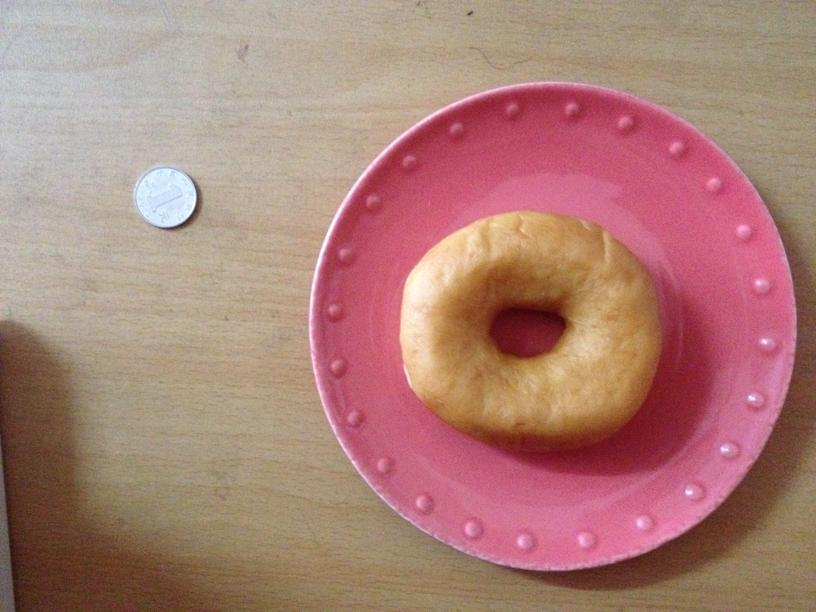coin: (131, 166, 200, 229)
doughnut: (396, 212, 664, 446)
